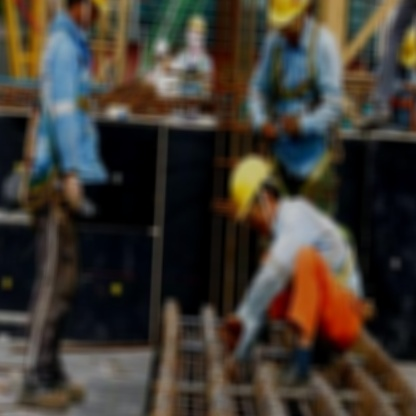vest: (27, 16, 112, 184), (243, 25, 344, 147), (259, 194, 365, 303)
yellow: (221, 151, 277, 230), (265, 0, 318, 28), (184, 10, 210, 34)
